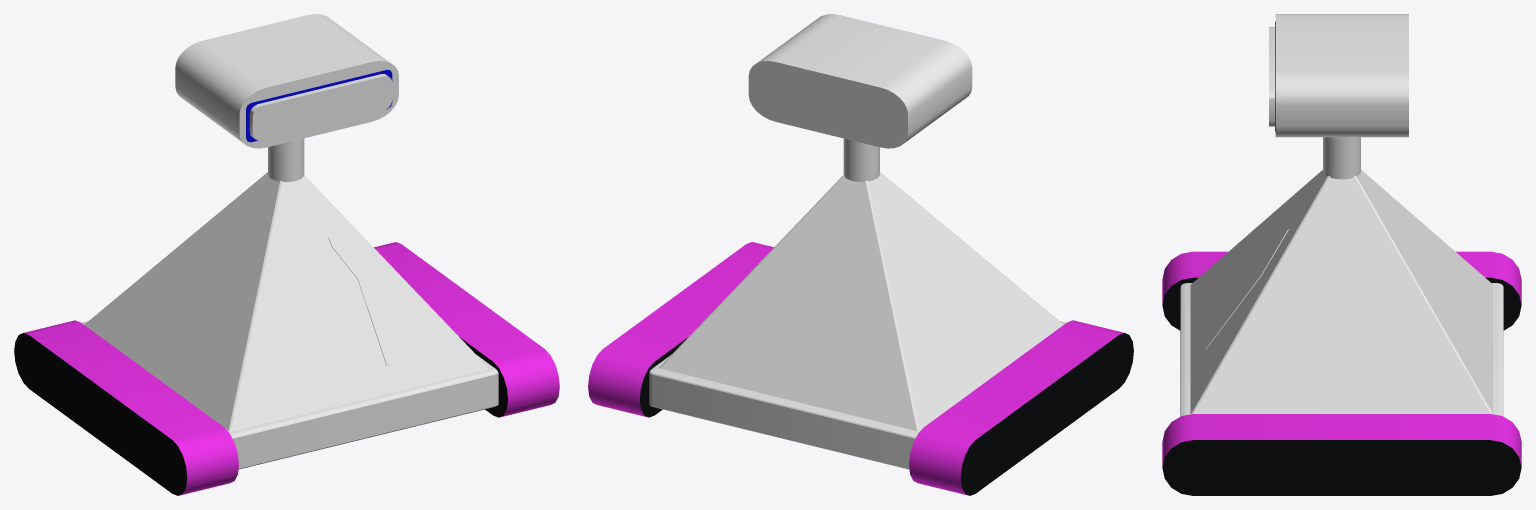
The model's file is BotMob.fbx.
The picture shows the model from 3 angles, left to right: view 1: azimuth 30°, elevation 25°; view 2: azimuth 150°, elevation 25°; view 3: azimuth 270°, elevation 25°; orthographic projection. The views are drawn at different scales.
Visible parts, largest first — view 1: Cube, Cutter.001, Cutter.005, Cutter.002, Cutter, Cutter.004, Cutter.003; view 2: Cube, Cutter.005, Cutter.001; view 3: Cube, Cutter.005, Cutter.001, Cutter, Cutter.002.
Part boxes in pixels (box(x1,y1,x2,y2)): Cube: box(14, 60, 559, 495); Cutter.001: box(175, 14, 398, 148); Cutter.005: box(24, 242, 559, 495); Cutter.002: box(249, 74, 392, 140); Cutter: box(270, 138, 304, 181); Cutter.004: box(328, 237, 391, 365); Cutter.003: box(246, 69, 392, 142); Cube: box(588, 15, 1124, 495); Cutter.005: box(588, 270, 1133, 495); Cutter.001: box(757, 14, 972, 142); Cube: box(1162, 36, 1520, 495); Cutter.005: box(1163, 251, 1521, 495); Cutter.001: box(1275, 14, 1408, 137); Cutter: box(1323, 137, 1341, 179); Cutter.002: box(1269, 27, 1274, 126).
Bounding box in the file's own units: 186 × 164 × 150.
